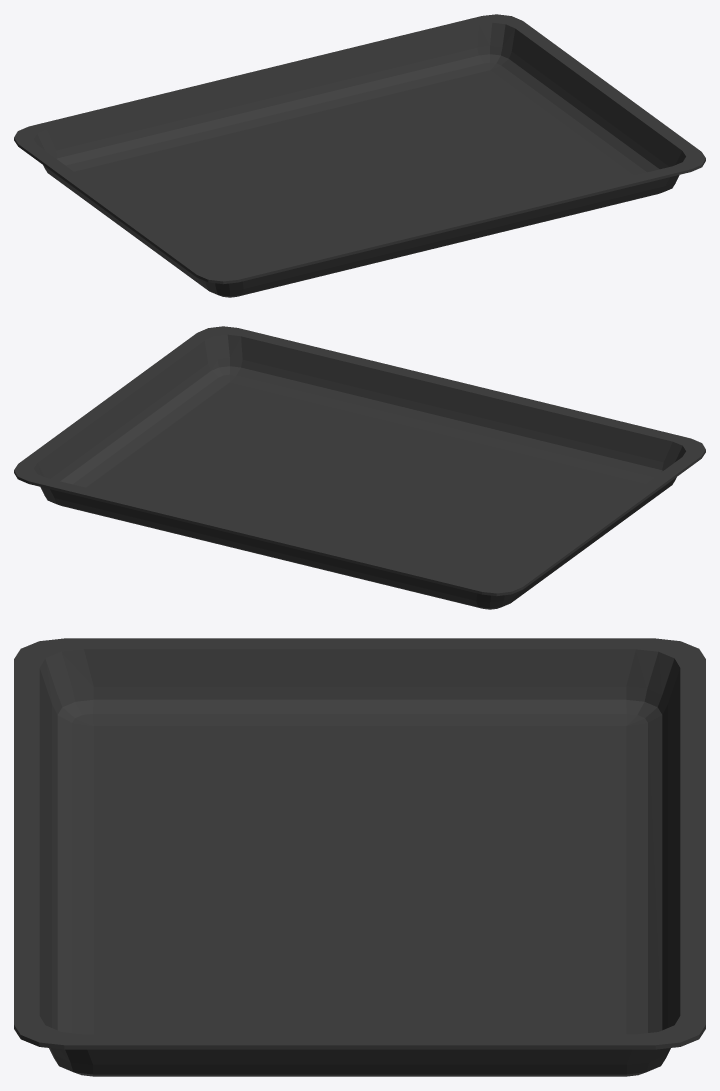
The model's file is tray.glb.
3 renders of one model, top to bottom at view 1: azimuth 30°, elevation 25°; view 2: azimuth 150°, elevation 25°; view 3: azimuth 270°, elevation 25°, orthographic. The views are drawn at different scales.
Visible parts, largest first — view 1: Baking_Tray; view 2: Baking_Tray; view 3: Baking_Tray.
Boxes of the visible parts, x1,y1,x2,y2 form: Baking_Tray: (14, 14, 705, 297); Baking_Tray: (14, 326, 705, 609); Baking_Tray: (14, 638, 705, 1076).
Bounding box in the file's own units: 90.84 × 6.08 × 65.3.
Materials: 1 (1 with a texture image).
